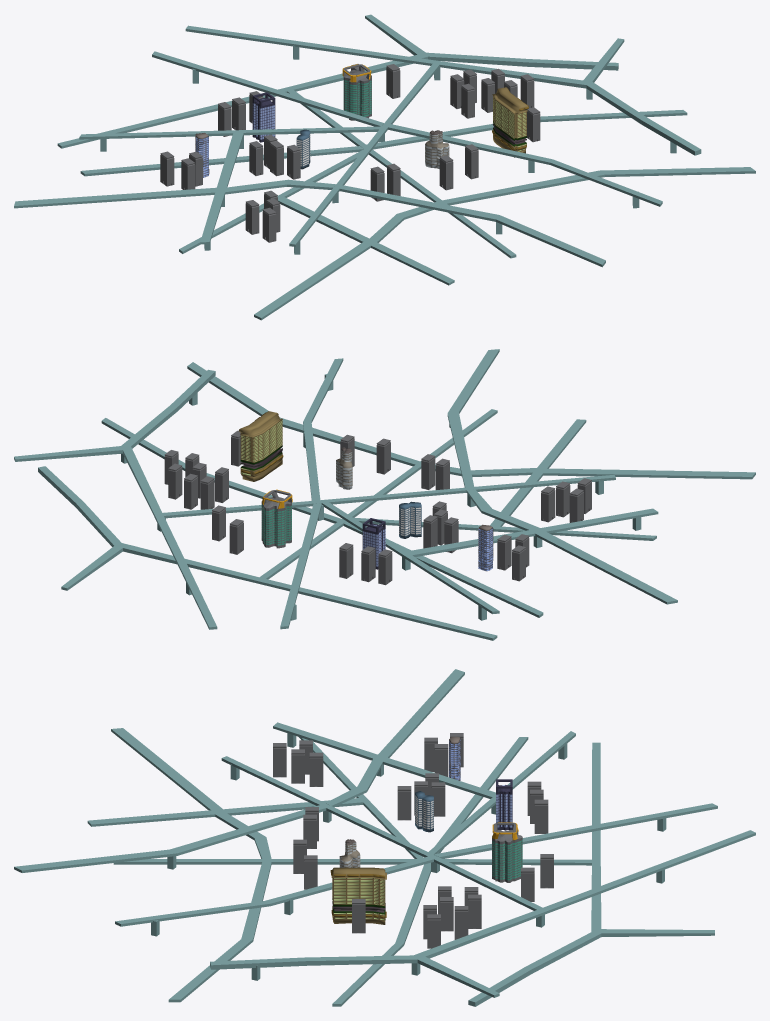
File: CityGroundBaseSystem.glb
The picture shows the model from 3 angles, top to bottom: view 1: azimuth 30°, elevation 25°; view 2: azimuth 150°, elevation 25°; view 3: azimuth 270°, elevation 25°; orthographic projection. The views are drawn at different scales.
Visible parts, largest first — view 1: building2, carRoad_air.005, carRoad_air.008, carRoad_air.006, carRoad_air.001, carRoad_ground, carRoad_ground.004, carRoad_ground.002, carRoad_air.003, carRoad_air.015, carRoad_air.009, carRoad_air.013 (+19 smaller); view 2: building2, carRoad_ground.009, carRoad_air.003, carRoad_ground.002, carRoad_air.009, carRoad_air.001, optimizeBuilding4, carRoad_air.005, carRoad_ground.004, carRoad_ground.010, carRoad_air.006, carRoad_ground.007 (+30 smaller); view 3: building2, carRoad_air.015, carRoad_ground.004, carRoad_air.003, carRoad_air.006, carRoad_air.009, carRoad_air.008, optimizeBuilding4, carRoad_ground.002, carRoad_ground, carRoad_air.001, carRoad_ground.010 (+20 smaller).
Boxes of the visible parts, left/top/right/bottom form: building2: left=492, top=87, right=528, bottom=157; carRoad_air.005: left=79, top=126, right=381, bottom=139; carRoad_air.008: left=185, top=25, right=434, bottom=65; carRoad_air.006: left=152, top=51, right=383, bottom=126; carRoad_air.001: left=14, top=187, right=216, bottom=208; carRoad_ground: left=426, top=52, right=618, bottom=70; carRoad_ground.004: left=278, top=197, right=454, bottom=285; carRoad_ground.002: left=254, top=242, right=370, bottom=320; carRoad_air.003: left=200, top=133, right=243, bottom=244; carRoad_air.015: left=586, top=82, right=701, bottom=155; carRoad_air.009: left=333, top=60, right=441, bottom=188; carRoad_air.013: left=339, top=185, right=499, bottom=221; building2: left=239, top=411, right=283, bottom=481; carRoad_ground.009: left=261, top=579, right=497, bottom=640; carRoad_air.003: left=406, top=508, right=658, bottom=557; carRoad_ground.002: left=543, top=468, right=755, bottom=479; carRoad_air.009: left=154, top=487, right=475, bottom=518; carRoad_air.001: left=535, top=531, right=677, bottom=604; optimizeBuilding4: left=261, top=497, right=291, bottom=548; carRoad_air.005: left=321, top=502, right=499, bottom=614; carRoad_ground.004: left=490, top=419, right=586, bottom=526; carRoad_ground.010: left=255, top=461, right=421, bottom=584; carRoad_air.006: left=280, top=503, right=321, bottom=629; carRoad_ground.007: left=343, top=521, right=543, bottom=617; building2: left=330, top=867, right=386, bottom=924; carRoad_air.015: left=210, top=955, right=417, bottom=969; carRoad_ground.004: left=87, top=798, right=363, bottom=826; carRoad_air.003: left=273, top=722, right=495, bottom=798; carRoad_air.006: left=433, top=803, right=717, bottom=858; carRoad_air.009: left=320, top=803, right=548, bottom=914; carRoad_air.008: left=543, top=830, right=755, bottom=912; optimizeBuilding4: left=492, top=830, right=522, bottom=882; carRoad_ground.002: left=111, top=728, right=222, bottom=810; carRoad_ground: left=468, top=932, right=601, bottom=1006; carRoad_air.001: left=378, top=669, right=464, bottom=757; carRoad_ground.010: left=262, top=859, right=600, bottom=865.
Size of the model in its own units: 3922 by 299 by 3767.
